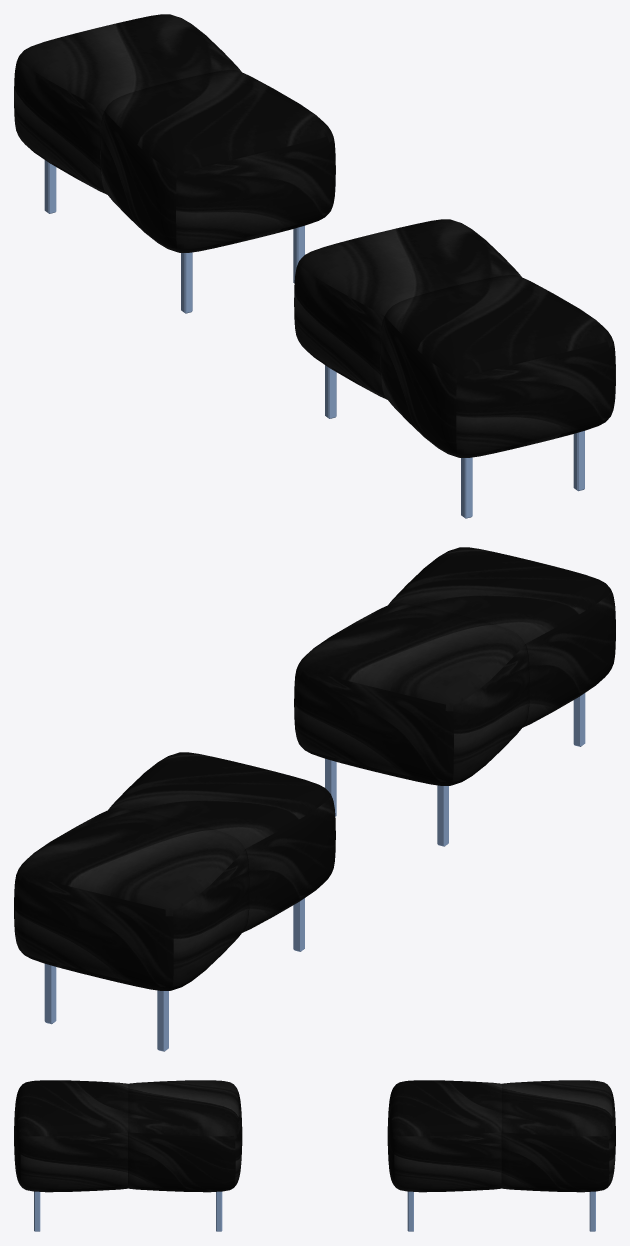
Rendered from sillones.obj.
3 renders of one model, top to bottom at view 1: azimuth 30°, elevation 25°; view 2: azimuth 150°, elevation 25°; view 3: azimuth 270°, elevation 25°, orthographic. The views are drawn at different scales.
Visible parts, largest first — view 1: sillones; view 2: sillones; view 3: sillones.
Part boxes in pixels (<box>): sillones: <box>14,14,615,518</box>; sillones: <box>14,547,615,1051</box>; sillones: <box>14,1080,615,1231</box>.
Bounding box in the file's own units: 6.37 × 5.86 × 28.49.
Materials: 2 (1 with a texture image).
